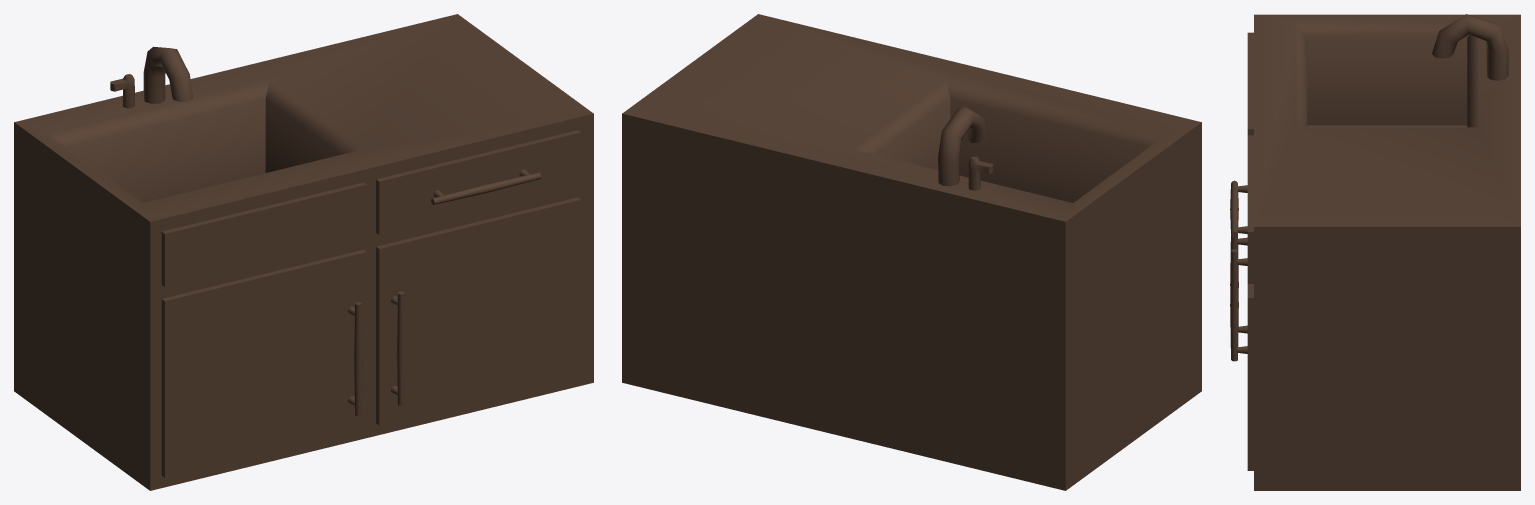
File: bancada.fbx
3 views of the same model, side by side, from view 1: azimuth 30°, elevation 25°; view 2: azimuth 150°, elevation 25°; view 3: azimuth 270°, elevation 25° (orthographic).
Parts seen in each view (by area): view 1: Bancadas; view 2: Bancadas; view 3: Bancadas.
Boxes of the visible parts, box(x1,y1,x2,y2) form: Bancadas: box(14, 14, 593, 490); Bancadas: box(622, 14, 1201, 490); Bancadas: box(1230, 14, 1520, 490).
Bounding box in the file's own units: 414 × 296 × 240.
